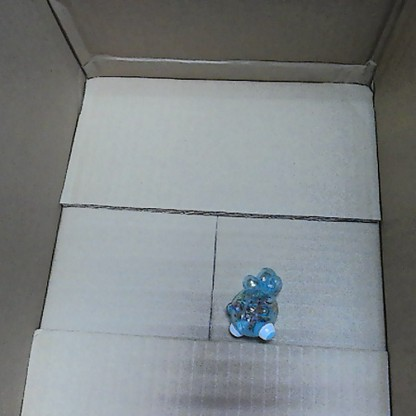bluefish: (221, 265, 283, 342)
